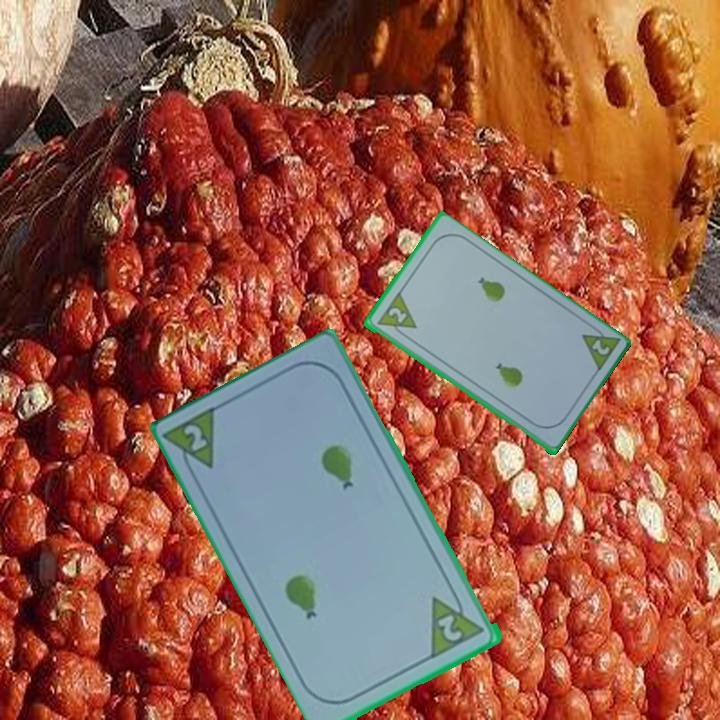2p: (163, 402, 222, 483), (427, 585, 488, 661), (373, 290, 419, 342), (588, 336, 612, 358)
